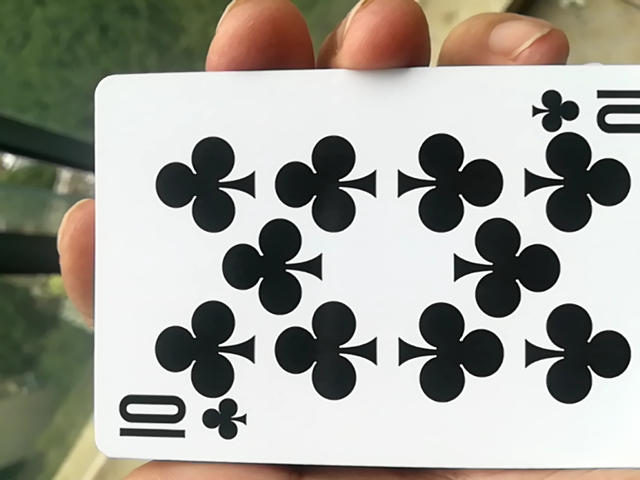mh 10: (83, 84, 636, 474)
